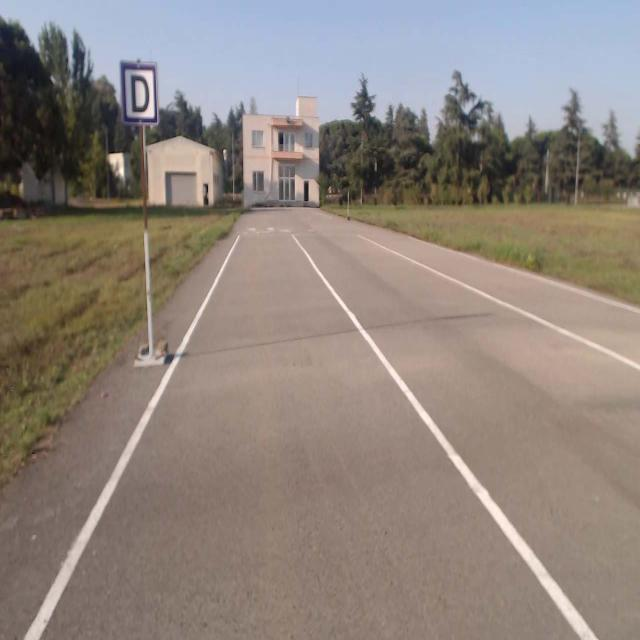durak: (120, 59, 159, 124)
